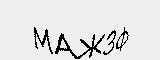А: (54, 32, 78, 60)
Ж: (79, 32, 103, 58)
З: (103, 29, 118, 58)
М: (32, 26, 53, 58)
Ф: (115, 24, 130, 54)
